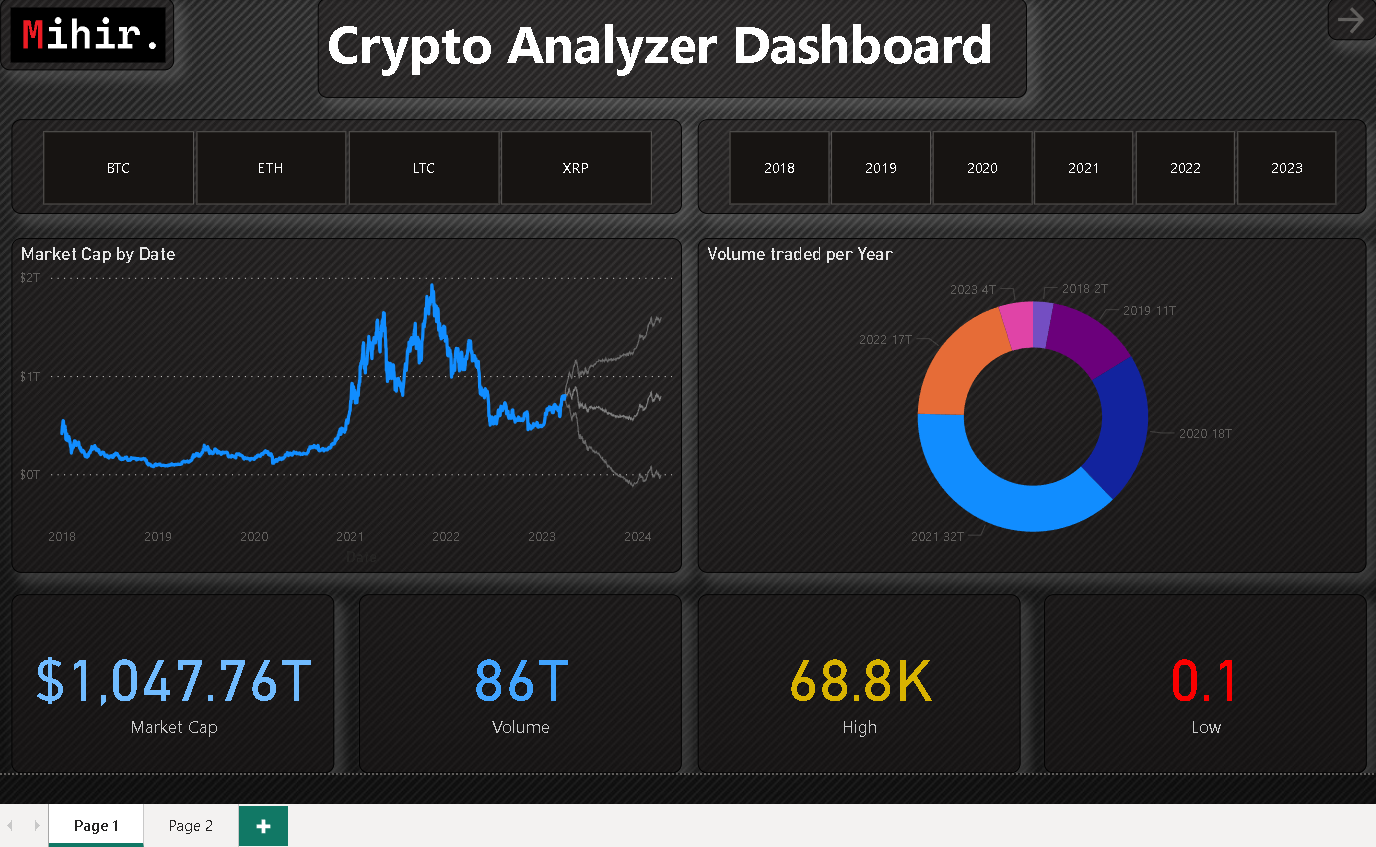

What the dashboard file says about the page in this screenshot:
{"tool":"powerbi","page":{"name":"Page 1","canvas":[1280,720],"ordinal":0},"visuals":[{"type":"textbox","box":[296.3,0,658.8,93],"z":0},{"type":"slicer","fields":{"Values":["crypto_combine.Crypto"]},"box":[11.6,112.7,622.8,88.3],"z":1000},{"type":"slicer","fields":{"Values":["crypto_combine.Date.Variation.Date Hierarchy.Year"]},"box":[649.5,112.7,621.6,88.3],"z":2000},{"type":"lineChart","title":"Market Cap by Date","fields":{"Y":["crypto_combine.Market Cap"],"Category":["crypto_combine.Date"]},"box":[11.6,223.1,622.8,311.4],"z":4000},{"type":"actionButton","box":[1235.2,0,45.3,39.5],"z":5000},{"type":"image","box":[1.2,0,161.5,67.4],"z":7000},{"type":"donutChart","title":"Volume traded per Year","fields":{"Y":["crypto_combine.Volume"],"Category":["crypto_combine.Date.Variation.Date Hierarchy.Year","crypto_combine.Date.Variation.Date Hierarchy.Quarter","crypto_combine.Date.Variation.Date Hierarchy.Month","crypto_combine.Date.Variation.Date Hierarchy.Day"]},"box":[649.5,223.1,621.6,311.4],"z":7003},{"type":"card","fields":{"Values":["crypto_combine.Market Cap"]},"box":[11.6,554.3,300,166.2],"z":7004},{"type":"card","fields":{"Values":["crypto_combine.Volume"]},"box":[334.6,554.3,299.8,166.2],"z":7005},{"type":"card","fields":{"Values":["crypto_combine.High"]},"box":[649.5,554.3,299.8,166.2],"z":7006},{"type":"card","fields":{"Values":["crypto_combine.Low"]},"box":[971.4,554.3,299.8,166.2],"z":7007}]}

Visuals, with their boxes on the page's 1280x720 design canvas (x1, y1, x2, y2). These are canvas units, not pixel positions in the 1376x847 screenshot, which may show the page scaled, cropped or inside an application window:
textbox: box=[296, 0, 955, 93]
slicer - crypto_combine.Crypto: box=[12, 113, 634, 201]
slicer - crypto_combine.Date.Variation.Date Hierarchy.Year: box=[650, 113, 1271, 201]
"Market Cap by Date" lineChart: box=[12, 223, 634, 534]
actionButton: box=[1235, 0, 1280, 40]
image: box=[1, 0, 163, 67]
"Volume traded per Year" donutChart: box=[650, 223, 1271, 534]
card - crypto_combine.Market Cap: box=[12, 554, 312, 720]
card - crypto_combine.Volume: box=[335, 554, 634, 720]
card - crypto_combine.High: box=[650, 554, 949, 720]
card - crypto_combine.Low: box=[971, 554, 1271, 720]
